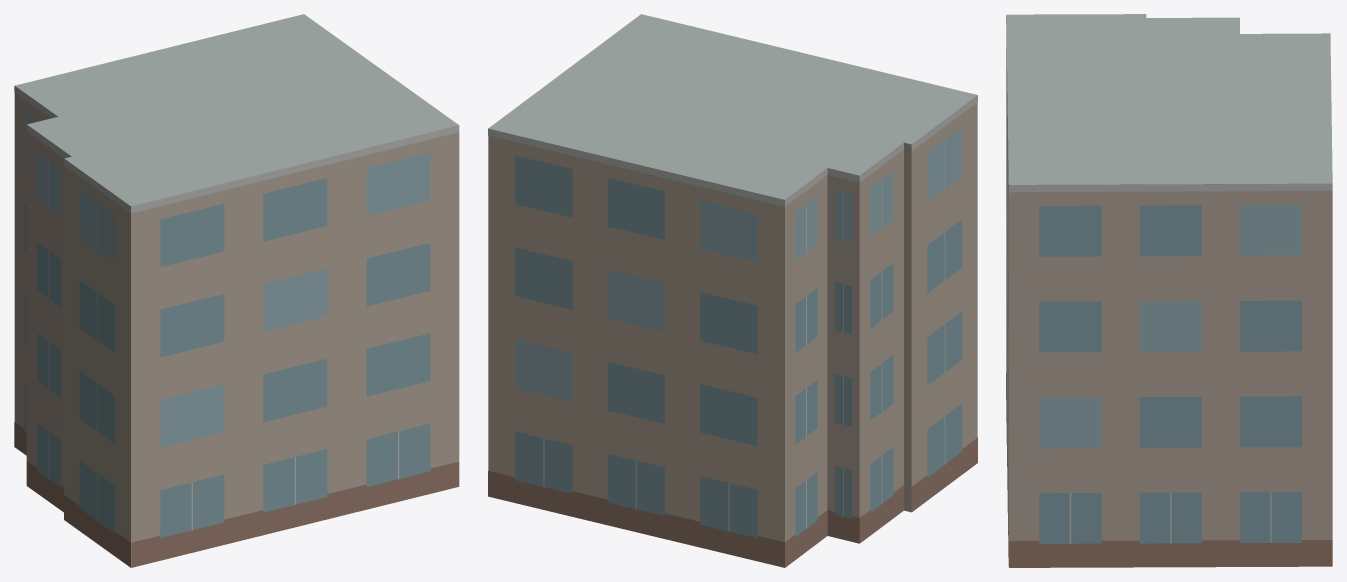
Rendered from survey-upis-32611268.glb.
3 renders of one model, left to right at view 1: azimuth 30°, elevation 25°; view 2: azimuth 150°, elevation 25°; view 3: azimuth 270°, elevation 25°, orthographic. The views are drawn at different scales.
Parts seen in each view (by area): view 1: survey-upis-32611268.tmp; view 2: survey-upis-32611268.tmp; view 3: survey-upis-32611268.tmp.
Boxes of the visible parts, x1=… form: survey-upis-32611268.tmp: x1=14, y1=14, x2=459, y2=567; survey-upis-32611268.tmp: x1=488, y1=14, x2=977, y2=567; survey-upis-32611268.tmp: x1=1006, y1=14, x2=1332, y2=567.
Size of the model in its own units: 12.26 by 12.8 by 9.9.
